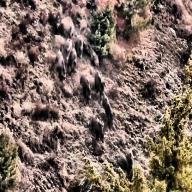boar: (100, 90, 118, 132), (90, 104, 104, 144), (54, 47, 66, 82), (82, 65, 92, 106), (92, 68, 106, 97), (83, 43, 99, 67), (72, 32, 84, 62), (63, 37, 73, 67), (70, 40, 78, 76), (53, 8, 62, 36)
